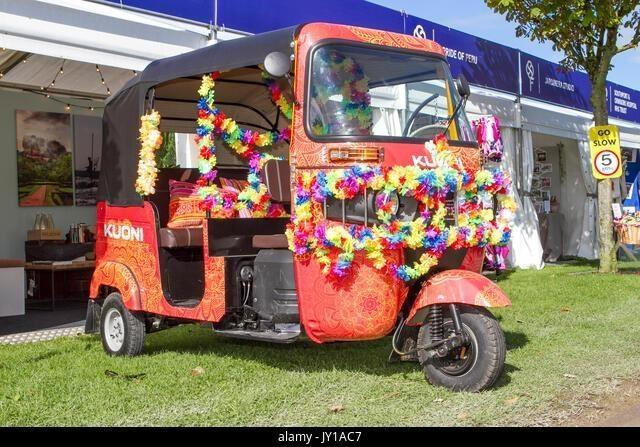keke: (87, 16, 516, 400)
